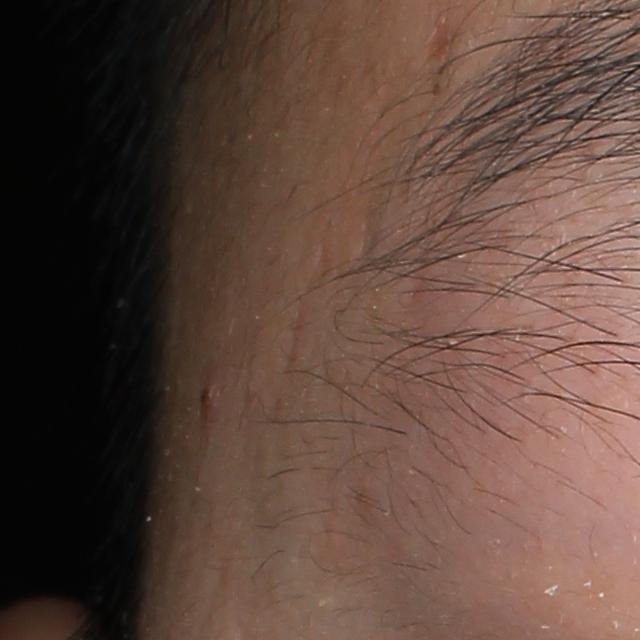papule: (198, 360, 221, 418)
